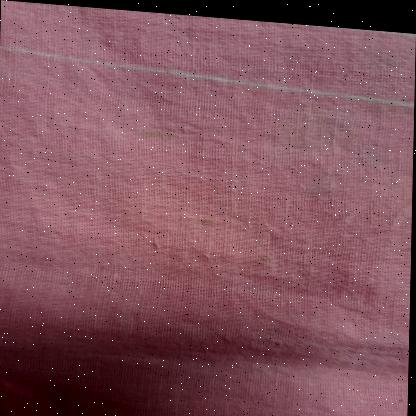spot: (138, 126, 175, 137), (259, 251, 275, 260), (198, 215, 212, 224)
